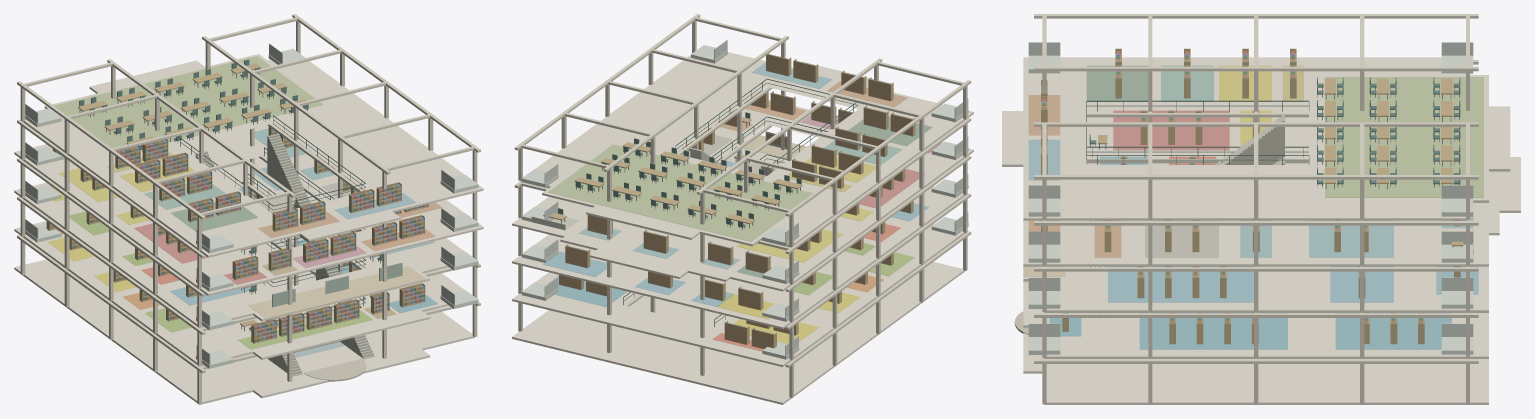
Rendered from 图书馆_五层整体剖切.glb.
3 views of the same model, side by side, from view 1: azimuth 30°, elevation 25°; view 2: azimuth 150°, elevation 25°; view 3: azimuth 270°, elevation 25° (orthographic). The views are drawn at different scales.
Parts seen in each view (by area): view 1: guide_outline_floor_slab (×5), guide_function_tint (×13), schematic_beam (×9), photo_guided_curved_landing; view 2: guide_outline_floor_slab (×5), guide_function_tint (×14), schematic_beam (×9); view 3: guide_outline_floor_slab (×5), guide_function_tint (×17), schematic_beam (×10), corner_service_room (×9).
Boxes of the visible parts, left/top/right/bottom form: guide_outline_floor_slab (×5): left=14, top=54, right=483, bottom=404; guide_function_tint (×13): left=54, top=56, right=435, bottom=349; schematic_beam (×9): left=17, top=14, right=480, bottom=373; photo_guided_curved_landing: left=304, top=358, right=366, bottom=381; guide_outline_floor_slab (×5): left=512, top=52, right=973, bottom=404; guide_function_tint (×14): left=543, top=63, right=932, bottom=343; schematic_beam (×9): left=514, top=14, right=971, bottom=367; guide_outline_floor_slab (×5): left=1002, top=57, right=1520, bottom=404; guide_function_tint (×17): left=1028, top=65, right=1483, bottom=349; schematic_beam (×10): left=1034, top=14, right=1478, bottom=363; corner_service_room (×9): left=1028, top=55, right=1473, bottom=354.
Size of the model in its own units: 36.42 by 23.86 by 49.
